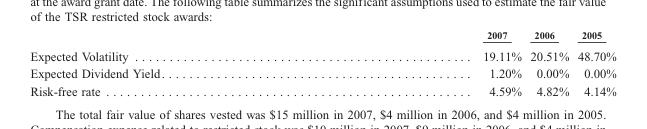table: (29, 29, 615, 97)
table column: (29, 29, 323, 97), (323, 29, 525, 97), (525, 29, 572, 97), (572, 29, 615, 97)
table column header: (29, 29, 615, 44)
table row: (29, 44, 615, 64), (29, 64, 615, 81), (29, 81, 615, 97), (29, 29, 615, 44)
